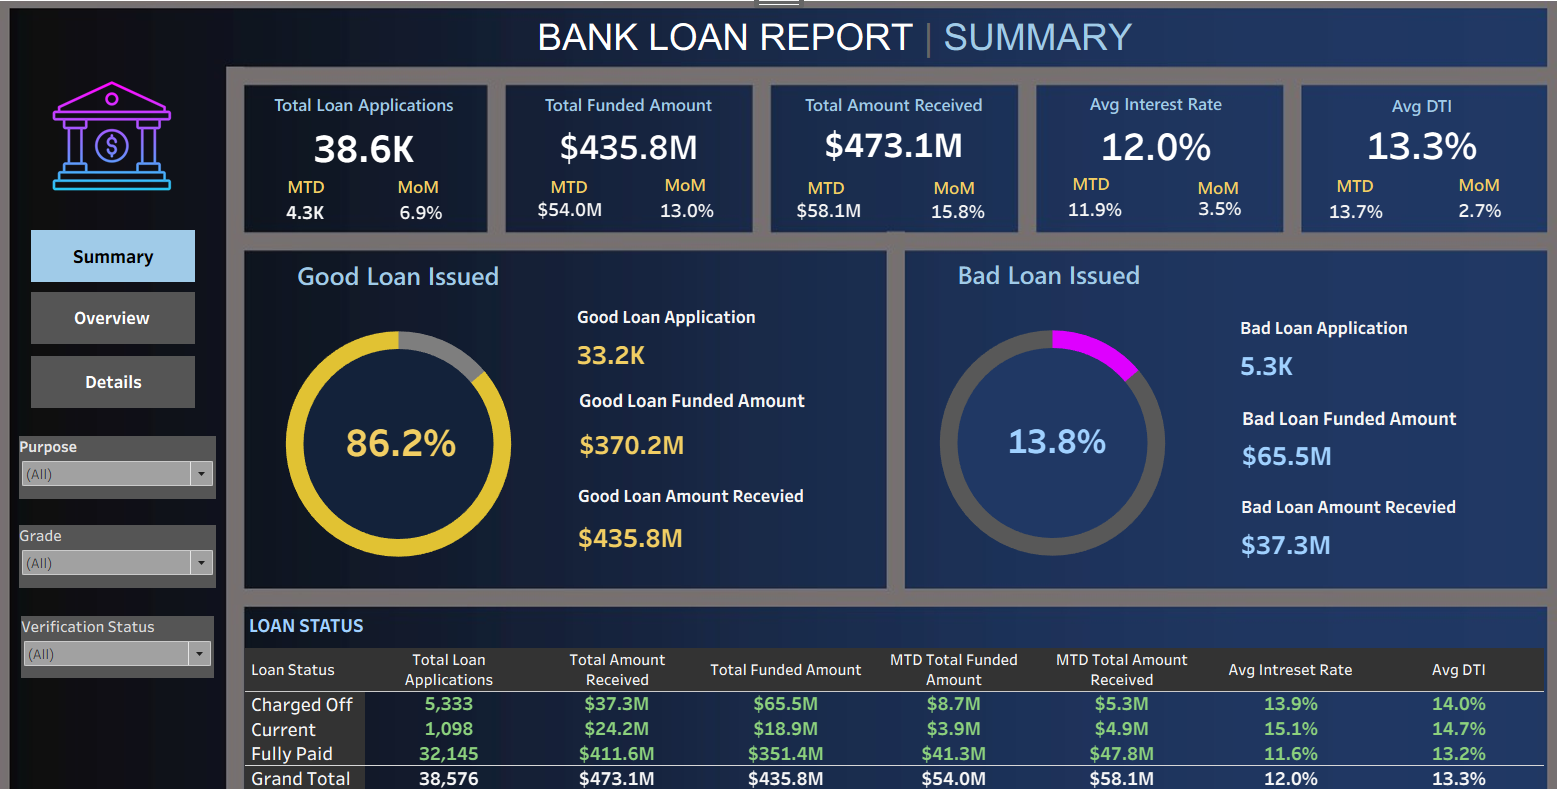

What the dashboard file says about the page in this screenshot:
{"tool":"tableau","page":{"name":"Summary","canvas":[1600,900],"ordinal":2},"visuals":[{"type":"image","param":"C:/Users/3dgar/Downloads/Project work/Tableau Background 1.jpg","box":[8,8,1584,884]},{"type":"text","box":[555,21,651,56]},{"type":"image","param":"C:/Users/3dgar/Downloads/Project work/8641549.png","box":[62,76,141,141]},{"type":"worksheet","title":"Avg Interest Rate","mark":"Automatic","box":[1063,99,228,78]},{"type":"worksheet","title":"Total Loan Applications","mark":"Automatic","box":[267,100,236,77]},{"type":"worksheet","title":"Total Funded Amount","mark":"Automatic","box":[527,100,245,76]},{"type":"worksheet","title":"Total Amount Received","mark":"Automatic","box":[799,100,232,72]},{"type":"worksheet","title":"Avg DTI","mark":"Automatic","box":[1328,101,230,72]},{"type":"text","box":[415,180,71,34]},{"type":"text","box":[1090,180,49,28]},{"type":"text","box":[682,181,49,28]},{"type":"text","box":[1476,181,49,28]},{"type":"text","box":[277,182,100,30]},{"type":"text","box":[564,182,52,30]},{"type":"text","box":[1354,182,49,28]},{"type":"text","box":[797,183,100,30]},{"type":"text","box":[951,184,49,28]},{"type":"text","box":[1215,184,49,28]},{"type":"worksheet","title":"MoM Total Funded Amount","mark":"Automatic","box":[649,198,117,46]},{"type":"worksheet","title":"MoM Total Amount Received","mark":"Automatic","box":[943,199,72,46]},{"type":"worksheet","title":"MoM Avg INT Rate","mark":"Automatic","box":[1212,199,58,40]},{"type":"worksheet","title":"MTD Total Funded Amount","mark":"Automatic","box":[539,200,104,40]},{"type":"worksheet","title":"MTD Loan Applications","mark":"Automatic","box":[265,202,122,41]},{"type":"worksheet","title":"MTD Total Amount Received","mark":"Automatic","box":[811,202,78,37]},{"type":"worksheet","title":"MoM Avg DTI","mark":"Automatic","box":[1470,202,63,38]},{"type":"worksheet","title":"MTD Avg INT Rate","mark":"Automatic","box":[1085,203,62,33]},{"type":"worksheet","title":"MTD Avg DTI","mark":"Automatic","box":[1340,203,74,37]},{"type":"worksheet","title":"MoM Total Loan Application","mark":"Automatic","box":[400,204,84,38]},{"type":"dashboard-object","box":[52,241,164,52]},{"type":"worksheet","title":"Bad Loan Issued ","mark":"Pie","rows":["Calculation_1457195968418590748","Calculation_1457195968418590748"],"box":[930,264,287,331]},{"type":"worksheet","title":"Good Loan Issued","mark":"Pie","rows":["Calculation_1457195968418590748","Calculation_1457195968418590748"],"box":[269,265,301,331]},{"type":"dashboard-object","box":[52,303,164,52]},{"type":"worksheet","title":"Good Loan Application","mark":"Automatic","box":[590,308,300,75]},{"type":"worksheet","title":"Bad Loan Application ","mark":"Automatic","box":[1253,319,300,75]},{"type":"dashboard-object","box":[52,367,164,52]},{"type":"worksheet","title":"Good Loan Funded Amount","mark":"Automatic","box":[592,390,295,89]},{"type":"worksheet","title":"Bad Loan %","mark":"Automatic","box":[983,397,190,108]},{"type":"worksheet","title":"Good Loan Application %","mark":"Automatic","box":[344,401,155,101]},{"type":"worksheet","title":"Bad Loan Funded Amount","mark":"Automatic","box":[1255,408,300,75]},{"type":"filter","title":"Good Loan Issued","param":"[federated.0c57ips00t71io10baioe06lgg3n].[none:purpose:nk]","box":[40,447,197,63]},{"type":"worksheet","title":"Good Loan Amount Recevied","mark":"Automatic","box":[591,487,278,83]},{"type":"worksheet","title":"Bad Loan Amount Recevied","mark":"Automatic","box":[1254,498,300,75]},{"type":"filter","title":"Good Loan Issued","param":"[federated.0c57ips00t71io10baioe06lgg3n].[none:grade:nk]","box":[40,536,197,63]},{"type":"worksheet","title":"LOAN STATUS","mark":"Automatic","rows":["loan_status"],"box":[266,619,1299,183]},{"type":"filter","title":"Good Loan Issued","param":"[federated.0c57ips00t71io10baioe06lgg3n].[none:verification_status:nk]","box":[42,627,193,62]}]}

Visuals, with their boxes on the page's 1600x900 design canvas (x1, y1, x2, y2). These are canvas units, not pixel positions in the 1557x789 screenshot, which may show the page scaled, cropped or inside an application window:
image: Rect(8, 8, 1592, 892)
text: Rect(555, 21, 1206, 77)
image: Rect(62, 76, 203, 217)
"Avg Interest Rate" worksheet: Rect(1063, 99, 1291, 177)
"Total Loan Applications" worksheet: Rect(267, 100, 503, 177)
"Total Funded Amount" worksheet: Rect(527, 100, 772, 176)
"Total Amount Received" worksheet: Rect(799, 100, 1031, 172)
"Avg DTI" worksheet: Rect(1328, 101, 1558, 173)
text: Rect(415, 180, 486, 214)
text: Rect(1090, 180, 1139, 208)
text: Rect(682, 181, 731, 209)
text: Rect(1476, 181, 1525, 209)
text: Rect(277, 182, 377, 212)
text: Rect(564, 182, 616, 212)
text: Rect(1354, 182, 1403, 210)
text: Rect(797, 183, 897, 213)
text: Rect(951, 184, 1000, 212)
text: Rect(1215, 184, 1264, 212)
"MoM Total Funded Amount" worksheet: Rect(649, 198, 766, 244)
"MoM Total Amount Received" worksheet: Rect(943, 199, 1015, 245)
"MoM Avg INT Rate" worksheet: Rect(1212, 199, 1270, 239)
"MTD Total Funded Amount" worksheet: Rect(539, 200, 643, 240)
"MTD Loan Applications" worksheet: Rect(265, 202, 387, 243)
"MTD Total Amount Received" worksheet: Rect(811, 202, 889, 239)
"MoM Avg DTI" worksheet: Rect(1470, 202, 1533, 240)
"MTD Avg INT Rate" worksheet: Rect(1085, 203, 1147, 236)
"MTD Avg DTI" worksheet: Rect(1340, 203, 1414, 240)
"MoM Total Loan Application" worksheet: Rect(400, 204, 484, 242)
dashboard-object: Rect(52, 241, 216, 293)
"Bad Loan Issued " worksheet (Pie marks): Rect(930, 264, 1217, 595)
"Good Loan Issued" worksheet (Pie marks): Rect(269, 265, 570, 596)
dashboard-object: Rect(52, 303, 216, 355)
"Good Loan Application" worksheet: Rect(590, 308, 890, 383)
"Bad Loan Application " worksheet: Rect(1253, 319, 1553, 394)
dashboard-object: Rect(52, 367, 216, 419)
"Good Loan Funded Amount" worksheet: Rect(592, 390, 887, 479)
"Bad Loan %" worksheet: Rect(983, 397, 1173, 505)
"Good Loan Application %" worksheet: Rect(344, 401, 499, 502)
"Bad Loan Funded Amount" worksheet: Rect(1255, 408, 1555, 483)
"Good Loan Issued" filter: Rect(40, 447, 237, 510)
"Good Loan Amount Recevied" worksheet: Rect(591, 487, 869, 570)
"Bad Loan Amount Recevied" worksheet: Rect(1254, 498, 1554, 573)
"Good Loan Issued" filter: Rect(40, 536, 237, 599)
"LOAN STATUS" worksheet: Rect(266, 619, 1565, 802)
"Good Loan Issued" filter: Rect(42, 627, 235, 689)
